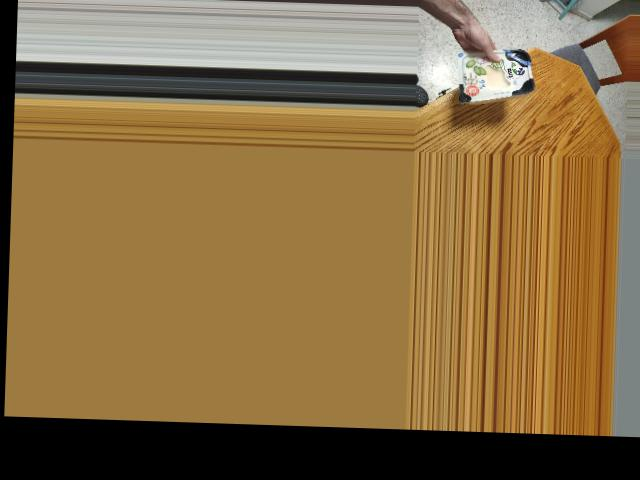cheese: (462, 50, 534, 96)
